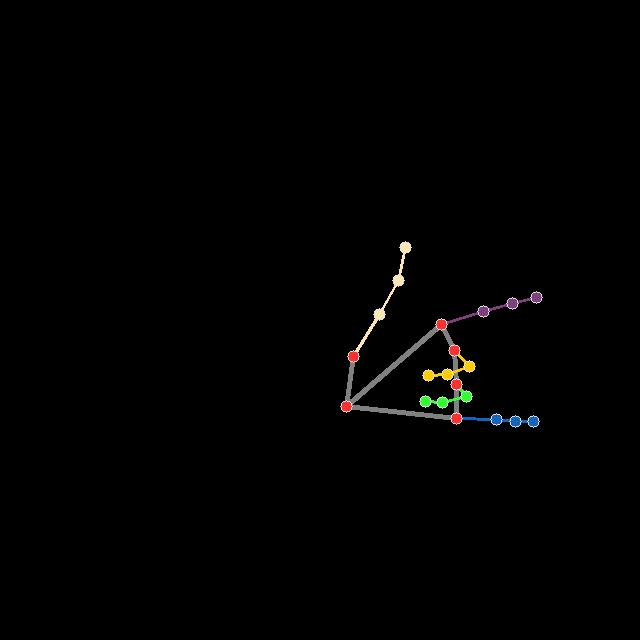spiderman: (341, 242, 542, 426)
